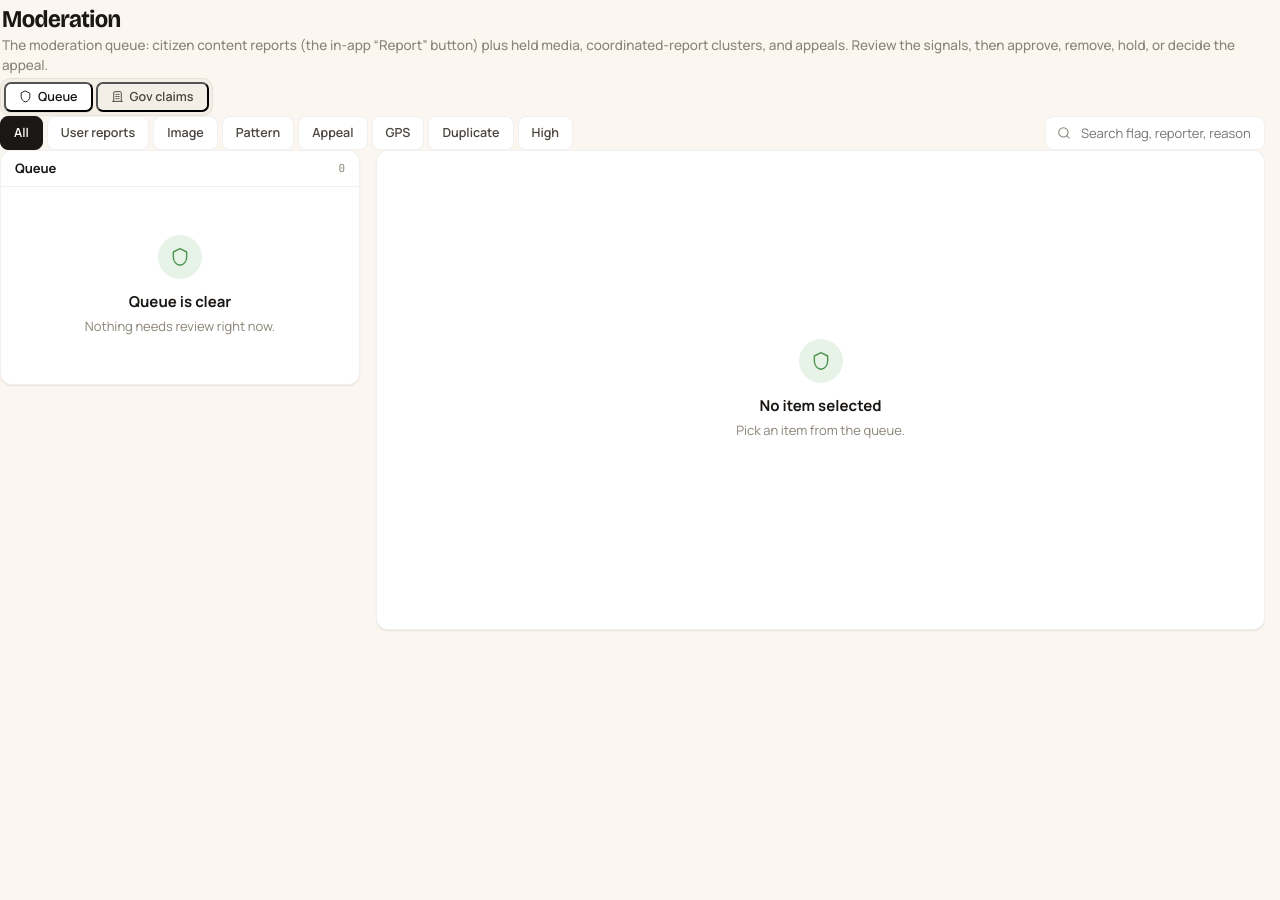
Test: ModerationPage selection after a decision › clears a decided claim even while the All list still holds it, and opens no other claim
Click the radio button labelled "Gov claims" at (152, 96), box [96,82,208,112]
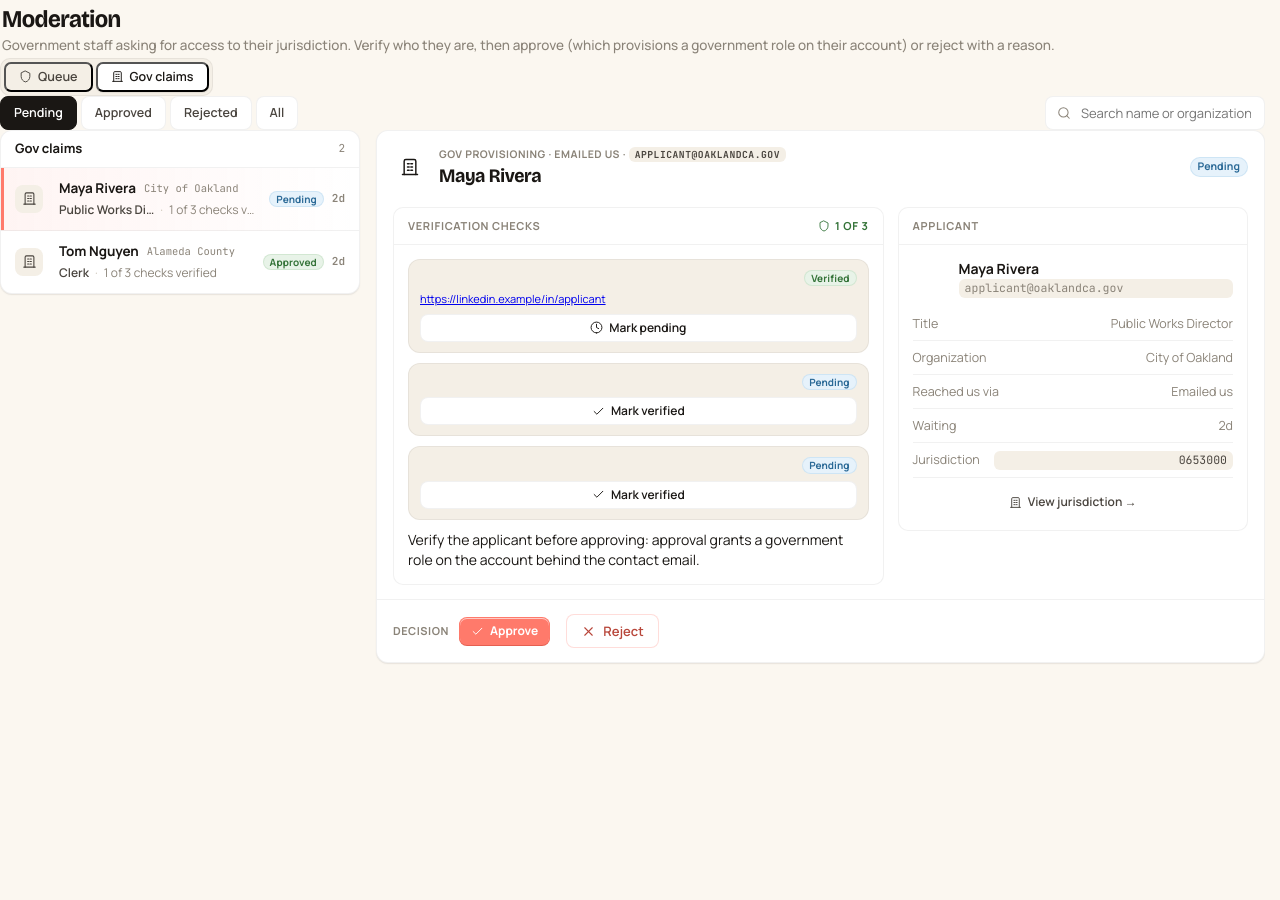
Click the button "All" at (277, 113), box [256,96,298,130]
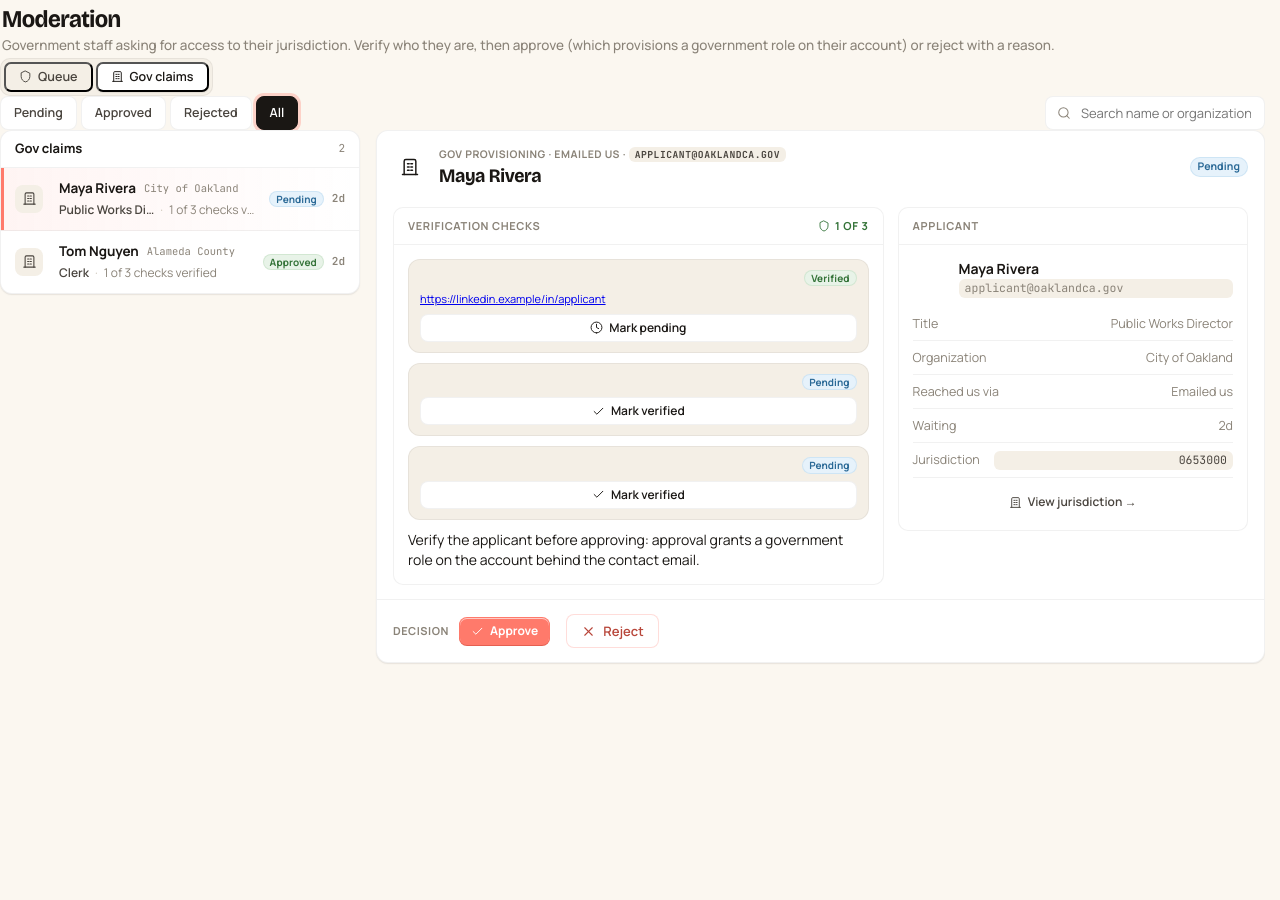
expect the heading "Maya Rivera" is shown: met, box [439,164,541,187]
Click the button "Reject" at (612, 631), box [566,614,659,648]
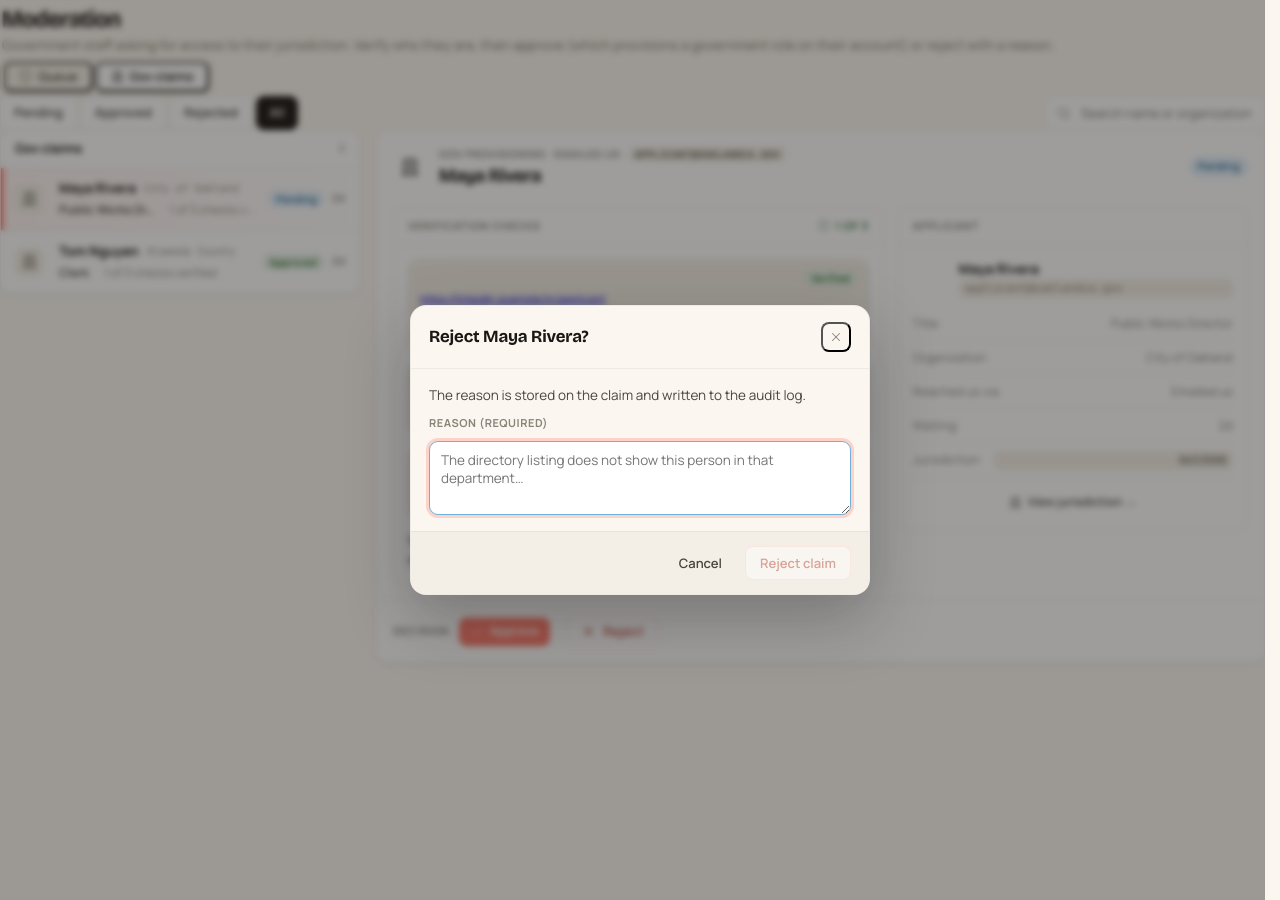
Type "Not in the directory" into the text box at (640, 478), box [429,441,851,515]
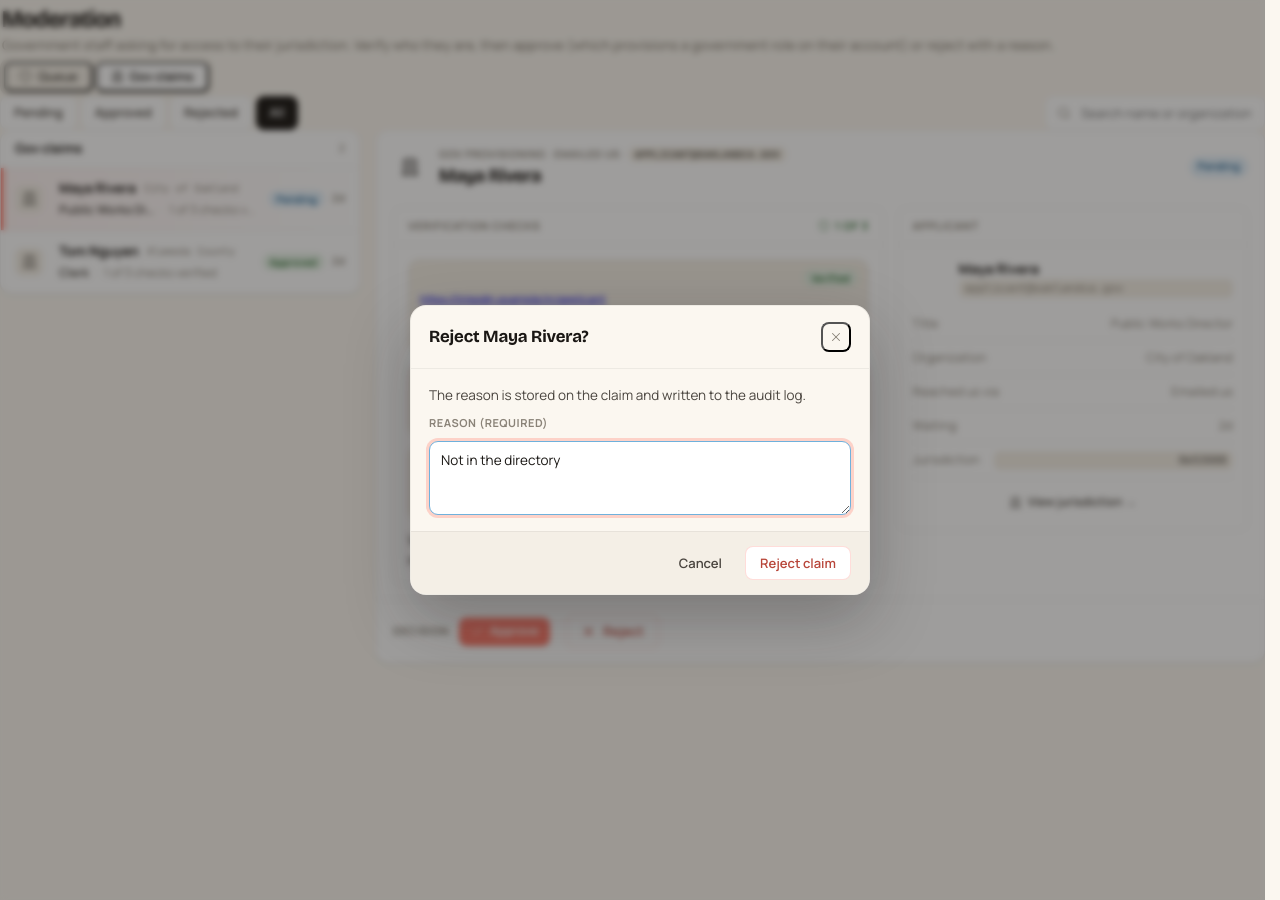
Click the button "Reject claim" at (798, 563), box [745,546,851,580]
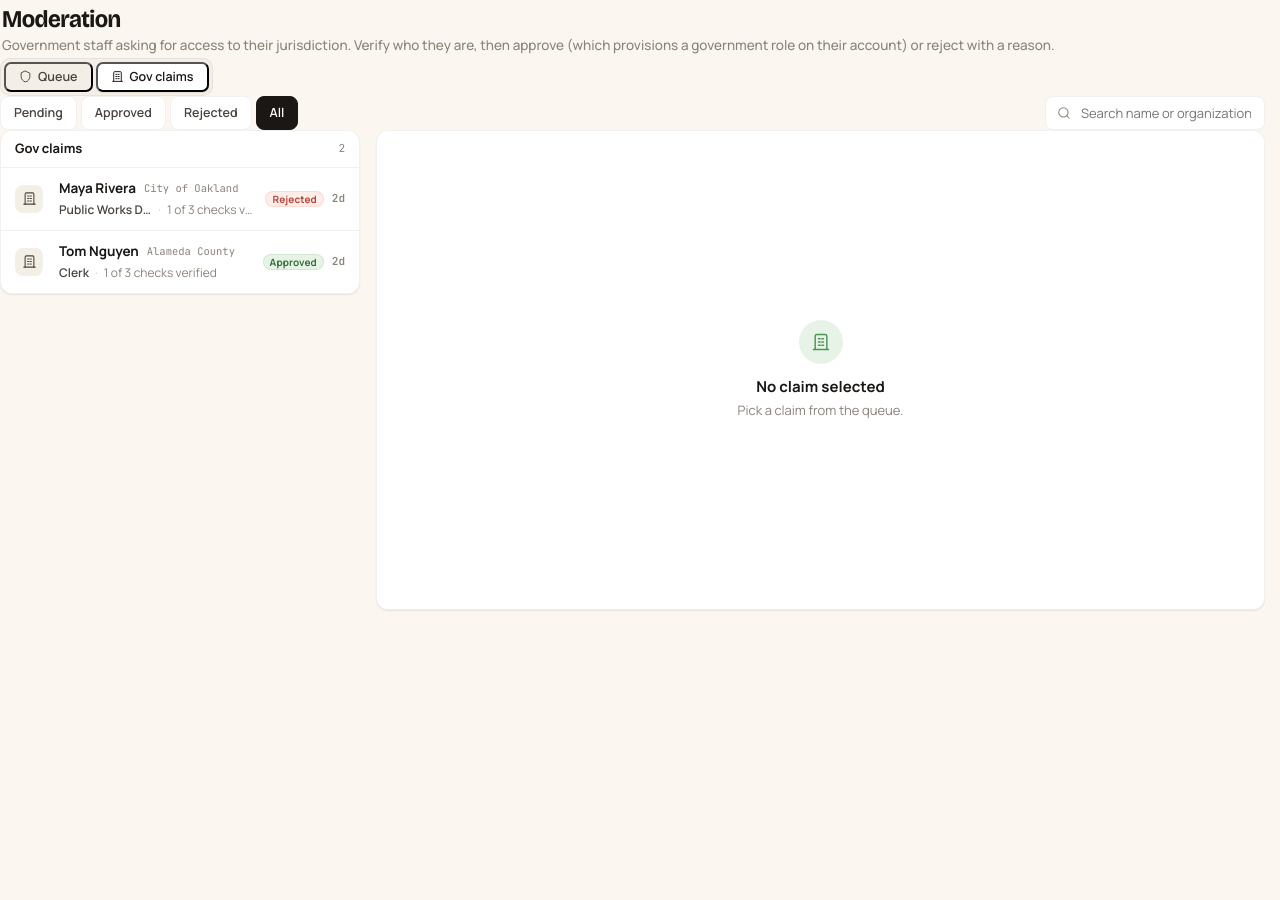
expect the text "No claim selected" is shown: met, box [756,376,885,398]
